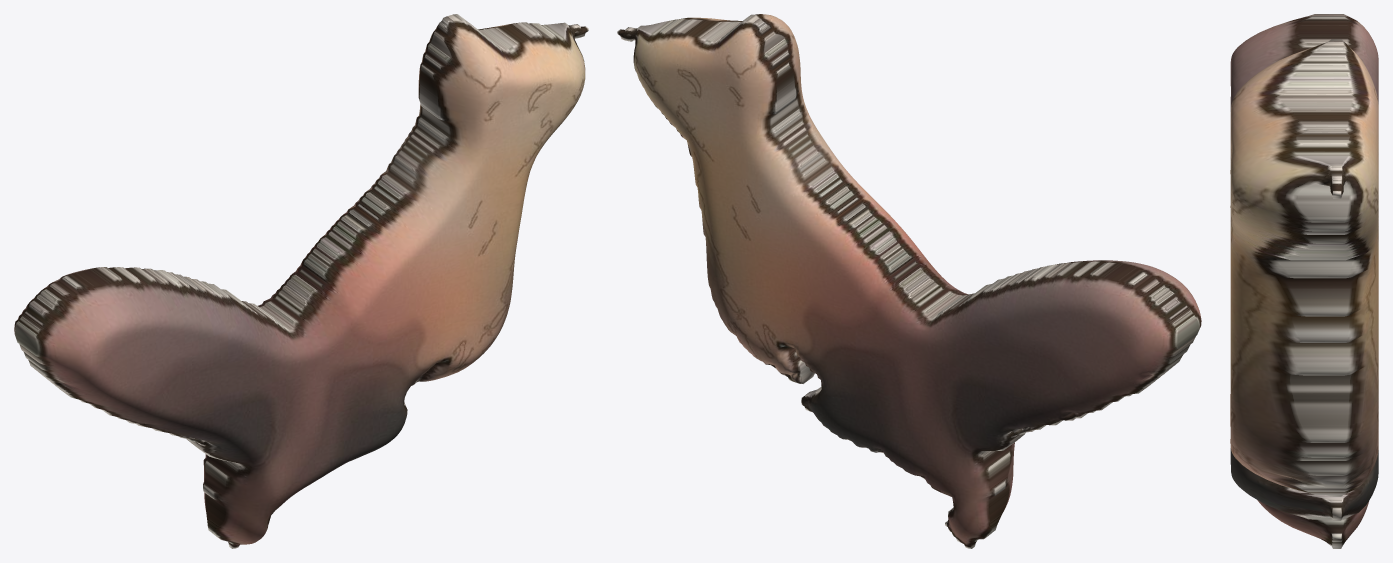
File: red_squirrel_171989381.glb
The picture shows the model from 3 angles, left to right: view 1: azimuth 30°, elevation 25°; view 2: azimuth 150°, elevation 25°; view 3: azimuth 270°, elevation 25°; orthographic projection. The views are drawn at different scales.
Visible parts, largest first — view 1: red_squirrel_171989381; view 2: red_squirrel_171989381; view 3: red_squirrel_171989381.
Boxes of the visible parts, bbox=[...] form: red_squirrel_171989381: bbox=[14, 14, 588, 548]; red_squirrel_171989381: bbox=[617, 14, 1201, 548]; red_squirrel_171989381: bbox=[1230, 14, 1378, 548].
Bounding box in the file's own units: 1.97 × 1.58 × 0.3282.
1 material, 1 textured.
